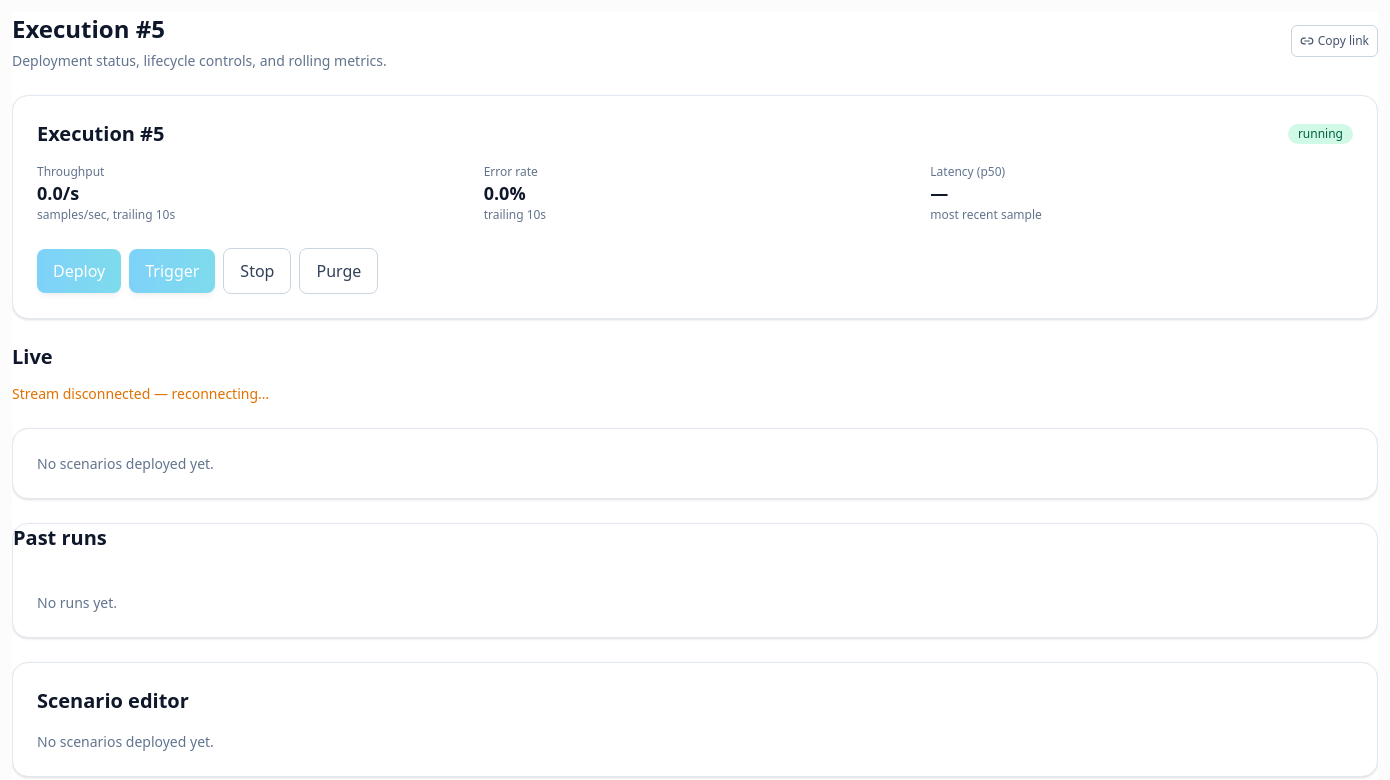
Scenario: Execution copy-link (mounted) › renders near the heading and copies the page URL on click
Click the button with test id "copy-link": (1334, 41) [1291, 25, 1378, 57]
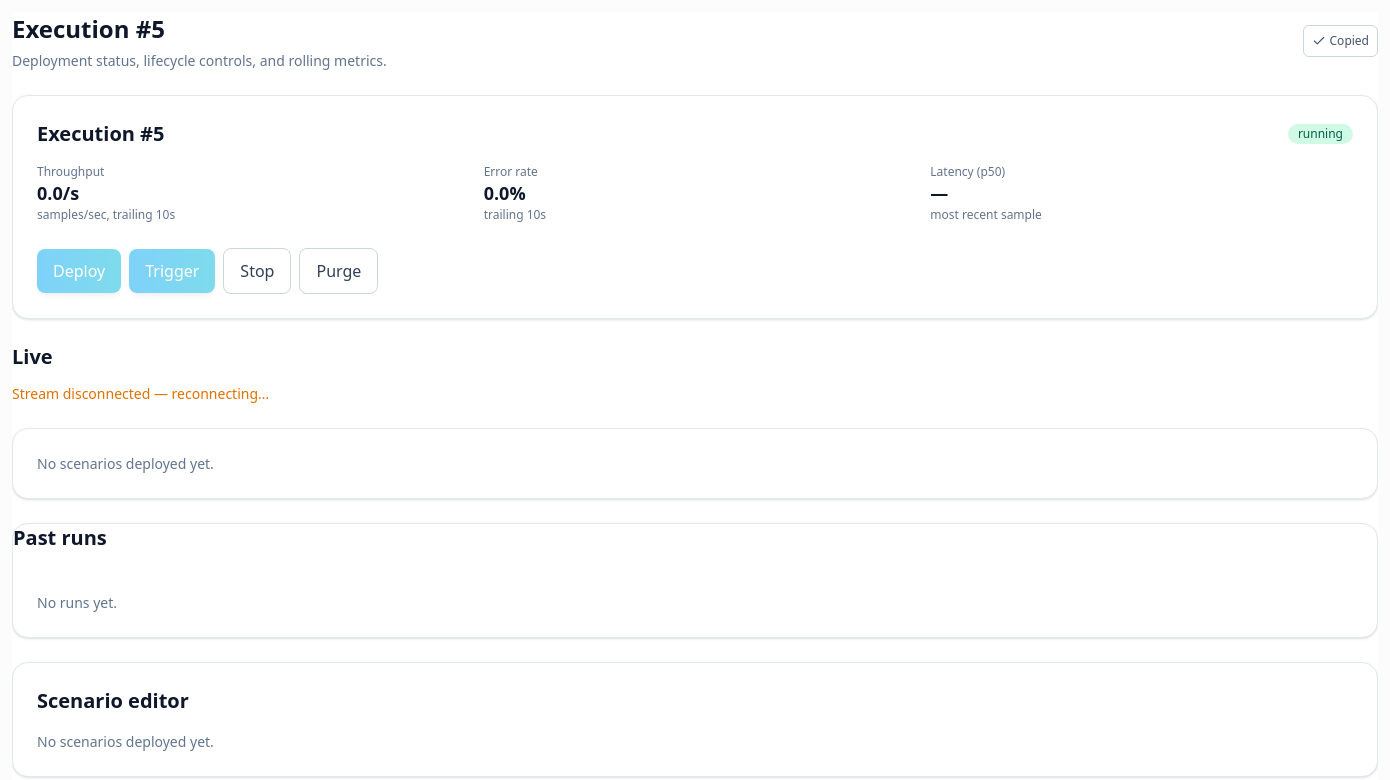
Check: the button with test id "copy-link" reads "Copied", box [1302, 25, 1378, 57]
